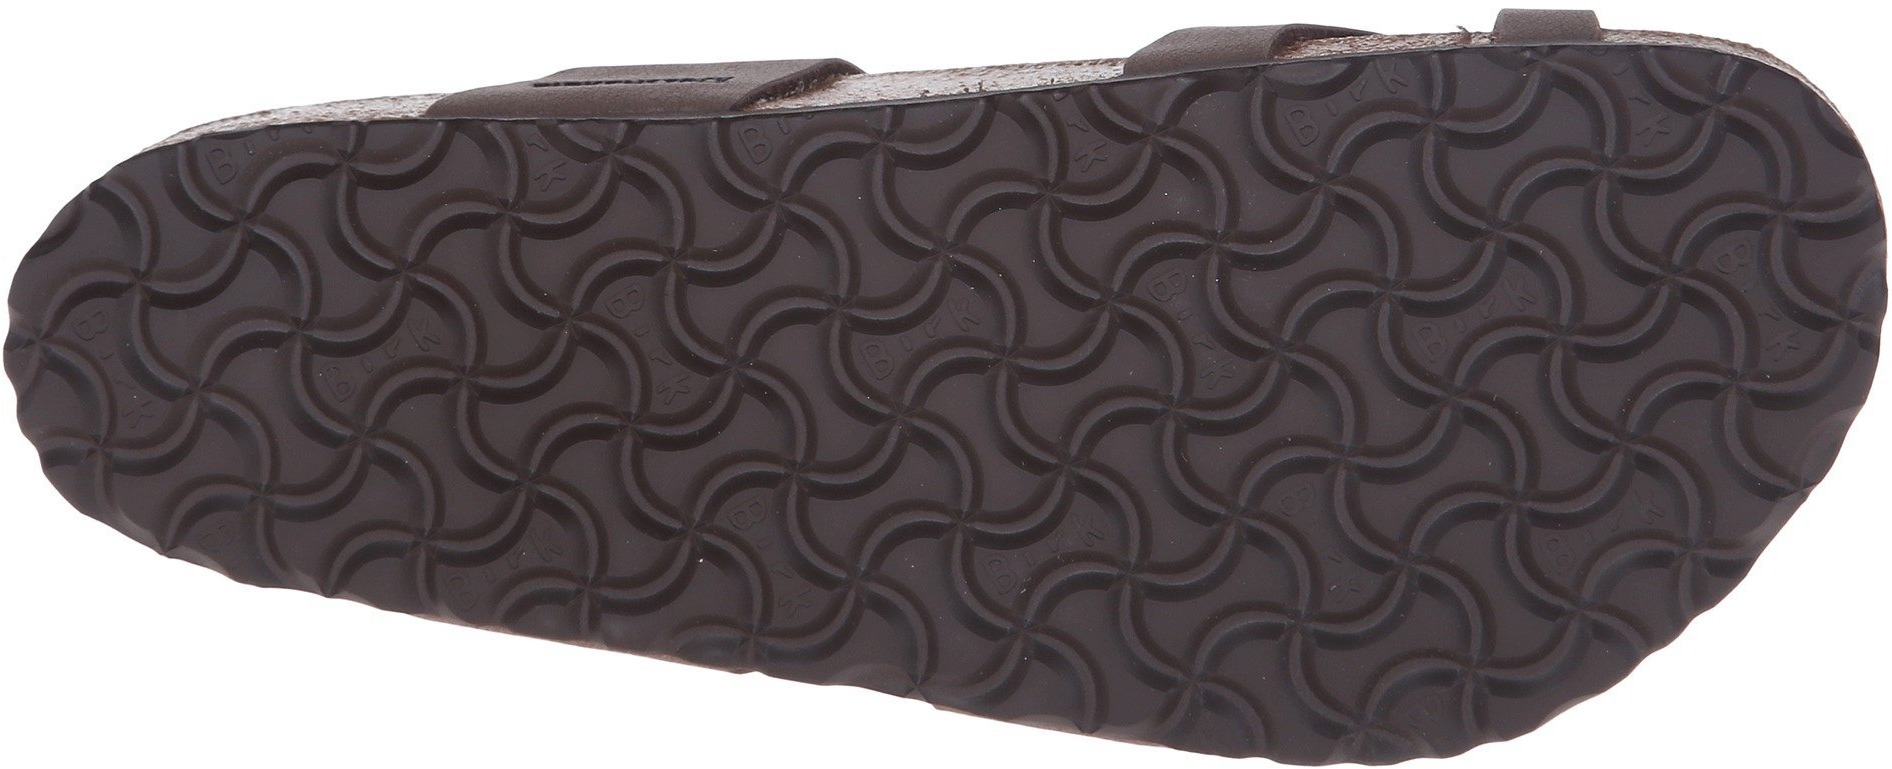bowtie: (475, 132, 893, 579), (1329, 62, 1764, 472), (903, 123, 1320, 491), (125, 171, 467, 546), (1172, 496, 1452, 769), (294, 366, 553, 586), (294, 130, 537, 356), (1011, 106, 1243, 342), (1008, 349, 1246, 575), (903, 495, 1145, 717), (49, 221, 290, 444), (545, 126, 767, 357), (786, 120, 995, 353), (772, 356, 999, 550), (1468, 241, 1675, 441), (1466, 445, 1674, 637), (278, 276, 480, 461), (557, 362, 766, 540), (1250, 66, 1447, 250), (1683, 179, 1881, 359), (1456, 65, 1658, 235), (1262, 255, 1453, 429), (1263, 432, 1456, 604), (1256, 613, 1413, 761), (1063, 586, 1211, 732), (814, 554, 960, 701), (1686, 368, 1821, 503)
star: (278, 276, 480, 461), (1484, 464, 1677, 592), (366, 484, 485, 610), (140, 334, 262, 449), (1214, 289, 1338, 396), (346, 231, 475, 330), (1546, 124, 1659, 235), (884, 198, 989, 310), (1052, 249, 1158, 340), (623, 215, 722, 304)
text: (475, 132, 893, 579), (1329, 62, 1764, 472), (903, 123, 1320, 491), (125, 171, 467, 546), (1172, 496, 1452, 769), (903, 495, 1145, 717), (278, 276, 480, 461), (579, 258, 730, 441), (693, 479, 846, 648), (1484, 464, 1677, 592), (1699, 225, 1829, 372), (1252, 464, 1385, 599), (840, 305, 1006, 400), (987, 499, 1129, 608), (68, 302, 171, 448), (1391, 260, 1546, 354), (1027, 100, 1141, 196), (1275, 74, 1421, 134)
